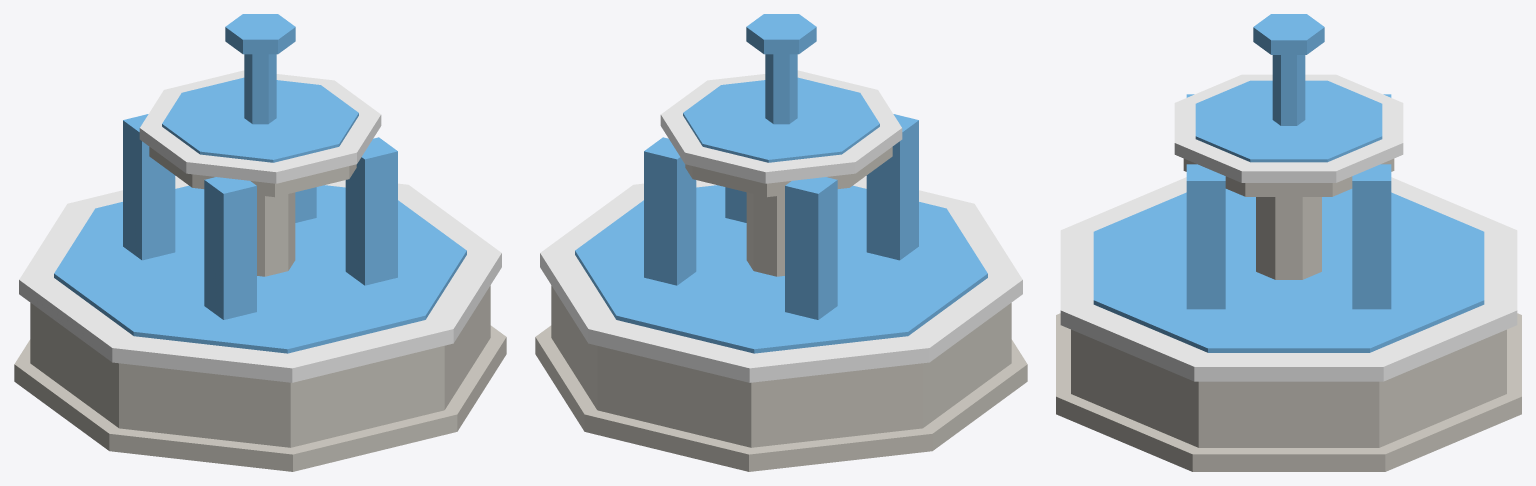
The model's file is fountain.glb.
The picture shows the model from 3 angles, left to right: view 1: azimuth 30°, elevation 25°; view 2: azimuth 150°, elevation 25°; view 3: azimuth 270°, elevation 25°; orthographic projection.
Visible parts, largest first — view 1: fountain; view 2: fountain; view 3: fountain.
Part boxes in pixels (bbox=[...]): fountain: bbox=[14, 14, 506, 471]; fountain: bbox=[535, 14, 1027, 471]; fountain: bbox=[1056, 14, 1521, 471].
Bounding box in the file's own units: 2.86 × 2.35 × 2.86.
